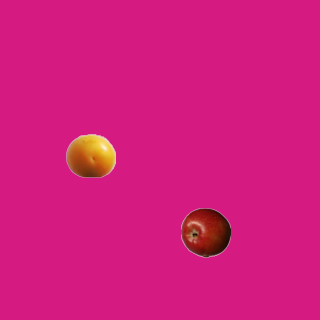Apple Braeburn: (180, 207, 230, 257)
Cherry Wax Yellow: (65, 130, 115, 180)
